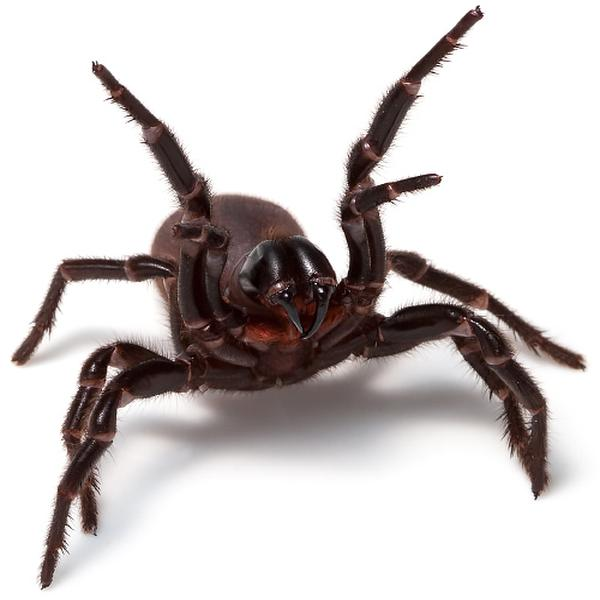Funnel Web Spider: (49, 21, 555, 558)
